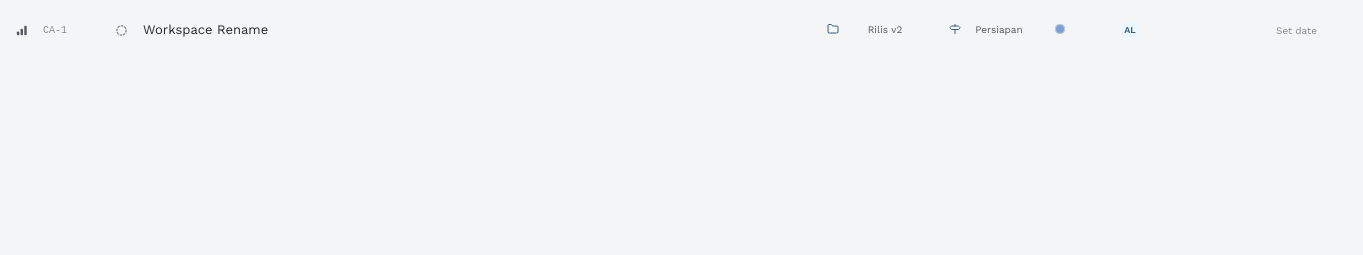
Scenario: TrackerRow › single-picker mutex › closes status and opens date
Click the button named "Backlog, CA-1" at (121, 30), box [109,18,133,42]
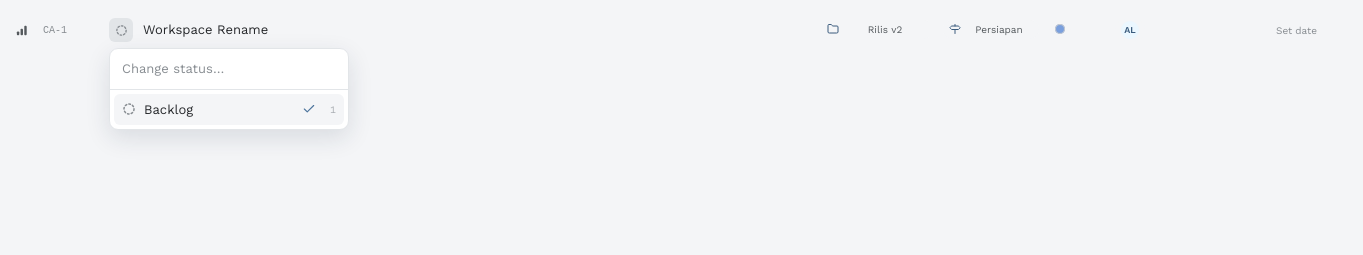
Now the dropdown labelled "Change status…" is shown, box [110,49,348,90]
Click the button with aria-label "Date: Set date" at (1297, 30), box [1276,22,1317,38]
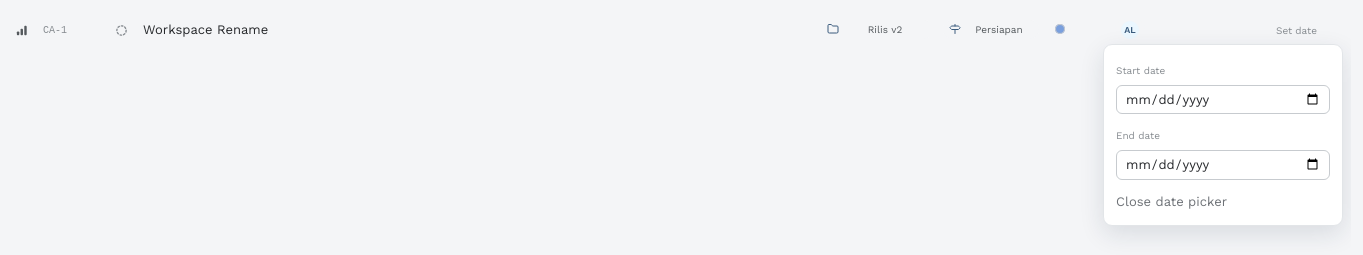
Expected: the dropdown labelled "Change status…" is not shown
Now the date field labelled "Start date" is shown, box [1116,84,1330,114]
